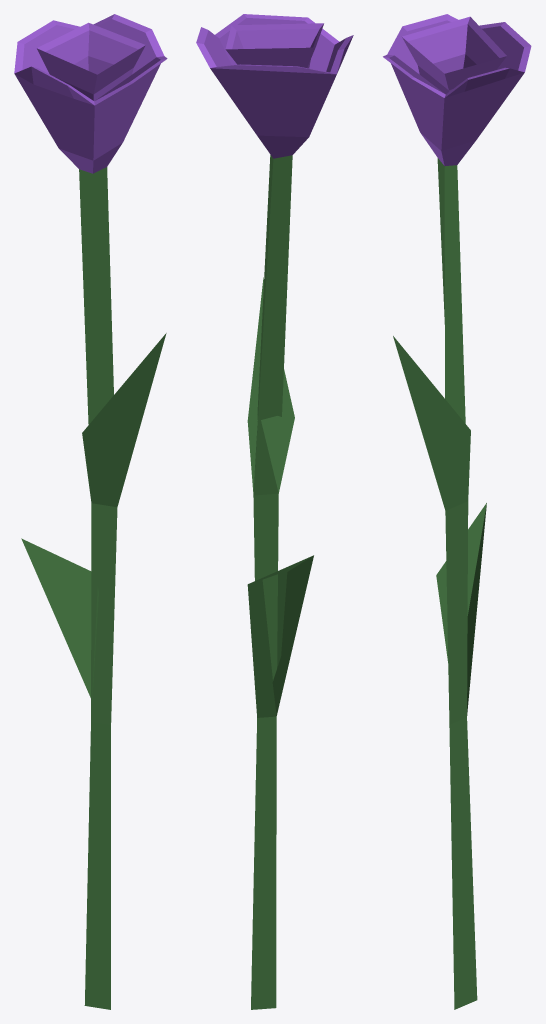
Rendered from flowertulipan04.gltf.
The picture shows the model from 3 angles, left to right: view 1: azimuth 30°, elevation 25°; view 2: azimuth 150°, elevation 25°; view 3: azimuth 270°, elevation 25°; orthographic projection. The views are drawn at different scales.
Visible parts, largest first — view 1: Icosphere; view 2: Icosphere; view 3: Icosphere.
Part boxes in pixels (left/top/right/bottom): Icosphere: left=14, top=14, right=167, bottom=1009; Icosphere: left=196, top=14, right=353, bottom=1009; Icosphere: left=383, top=14, right=531, bottom=1009.
Bounding box in the file's own units: 0.0935 × 0.6366 × 0.0894.
Materials: 1 (1 with a texture image).
